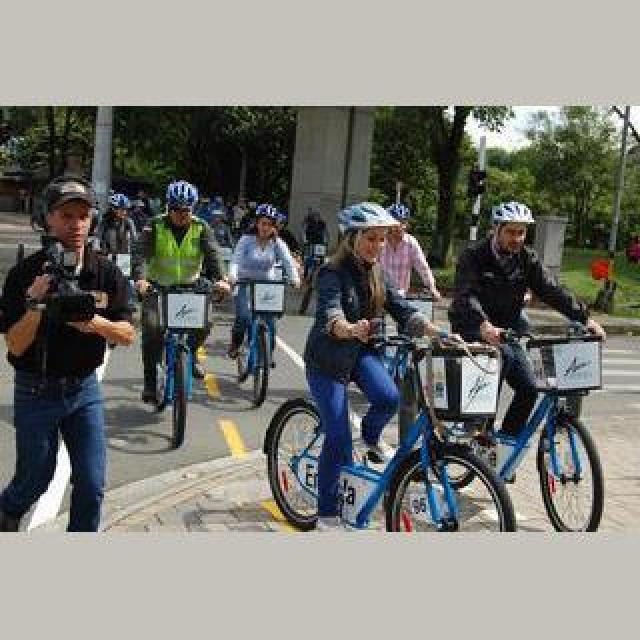MC-Bike: (0, 180, 140, 532), (448, 202, 600, 470), (302, 202, 432, 514), (138, 180, 228, 414), (228, 206, 302, 392), (378, 206, 444, 314), (98, 192, 144, 292)
Person: (263, 324, 523, 530), (413, 324, 611, 532), (138, 283, 218, 449), (225, 282, 283, 408)
